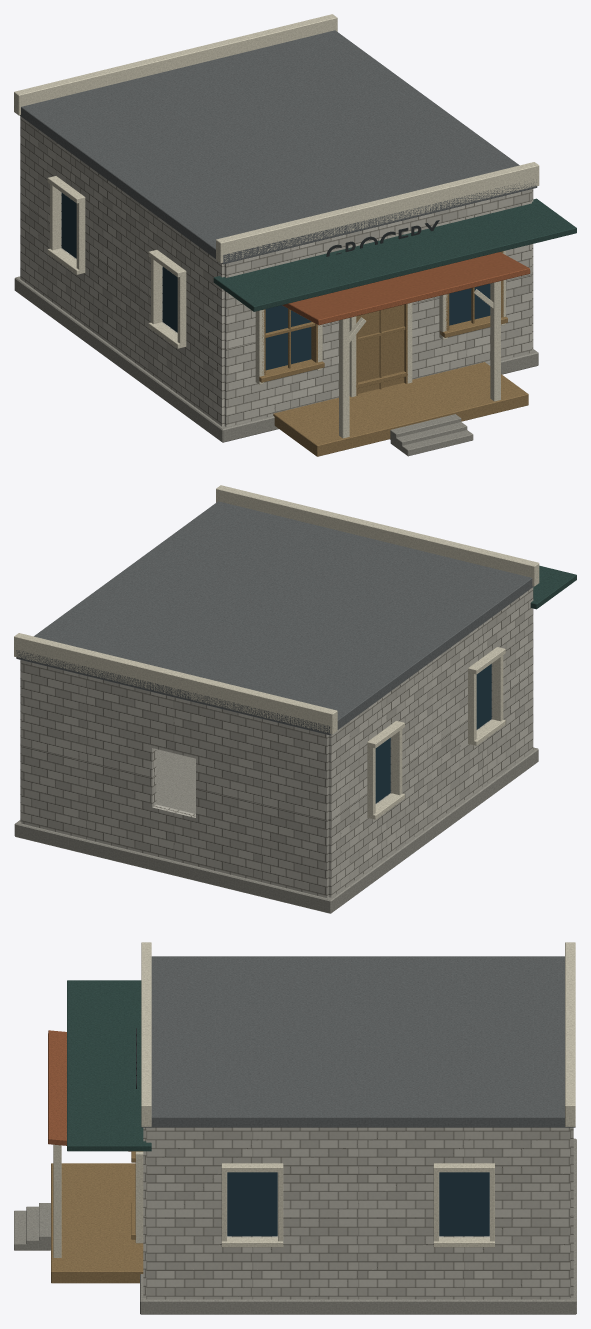
File: SHOPD2_lod1.glb
3 views of the same model, one above another, from view 1: azimuth 30°, elevation 25°; view 2: azimuth 150°, elevation 25°; view 3: azimuth 270°, elevation 25° (orthographic). The views are drawn at different scales.
Visible parts, largest first — view 1: SHOPD2_LOD1; view 2: SHOPD2_LOD1; view 3: SHOPD2_LOD1.
Part boxes in pixels (bbox=[...]): SHOPD2_LOD1: bbox=[14, 14, 576, 456]; SHOPD2_LOD1: bbox=[14, 485, 576, 913]; SHOPD2_LOD1: bbox=[14, 942, 576, 1314].
Size of the model in its own units: 7.51 by 4.38 by 10.62.
10 materials, 8 textured.
